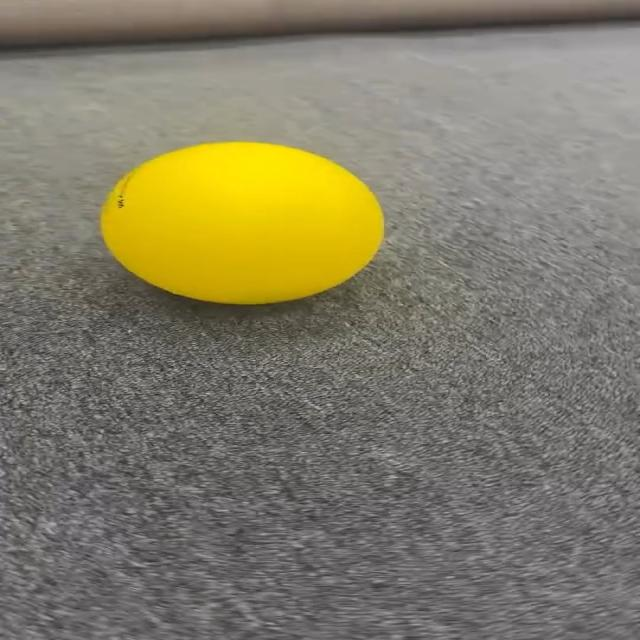Fuels: (102, 143, 380, 302)
